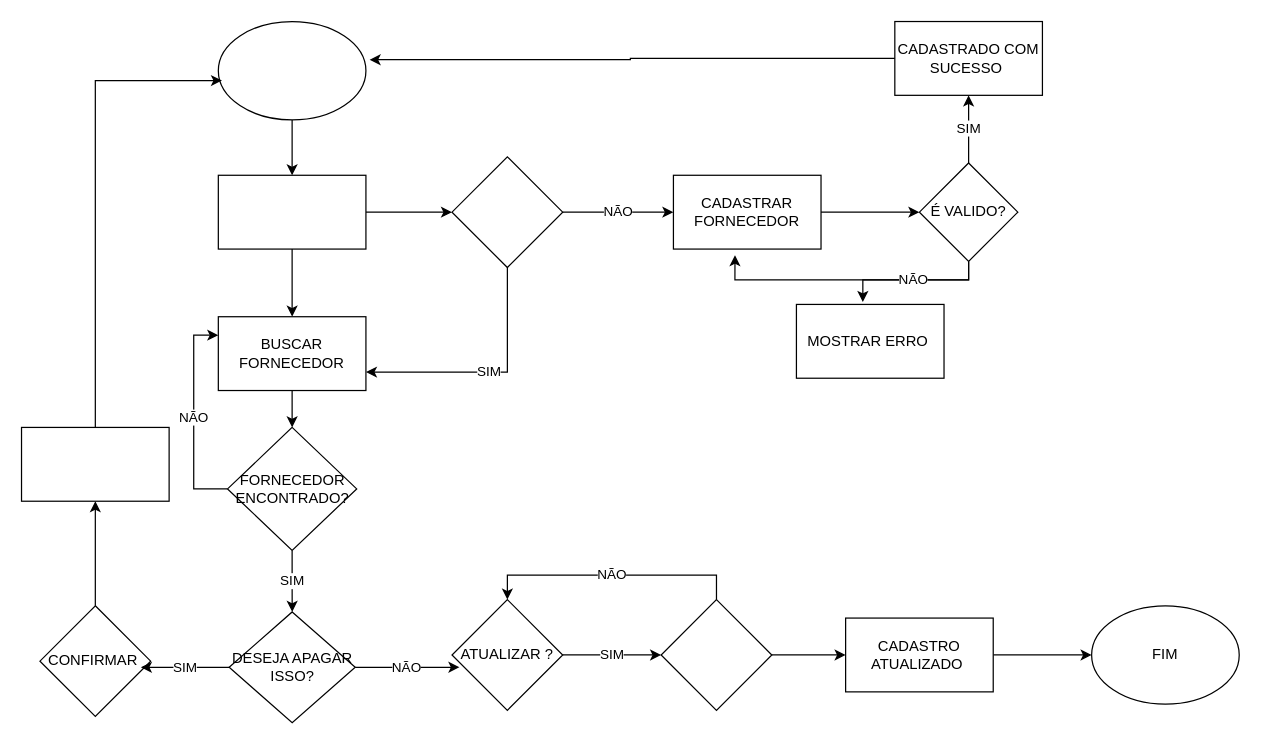
Image size: 1261x744. Some labels were removed from this diagram. The centre of each missing label's shape, as x and y in pixels:
APAGAR FORNECEDOR: pixel 94 463
INICIO: pixel 291 70
LISTAR FORNECEDOR: pixel 291 211
OS DADOS ÃO VALIDOS?: pixel 716 654
POSSUI CADASTRO ?: pixel 507 212
